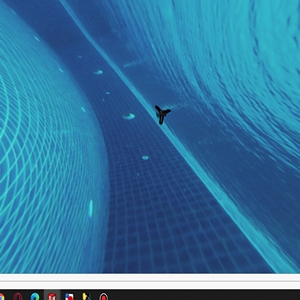submarine: (151, 102, 172, 124)
